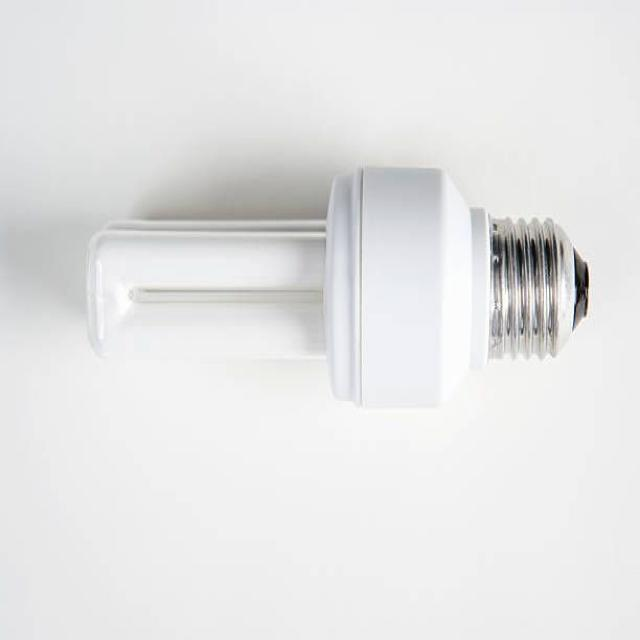electronic: (85, 162, 590, 410)
